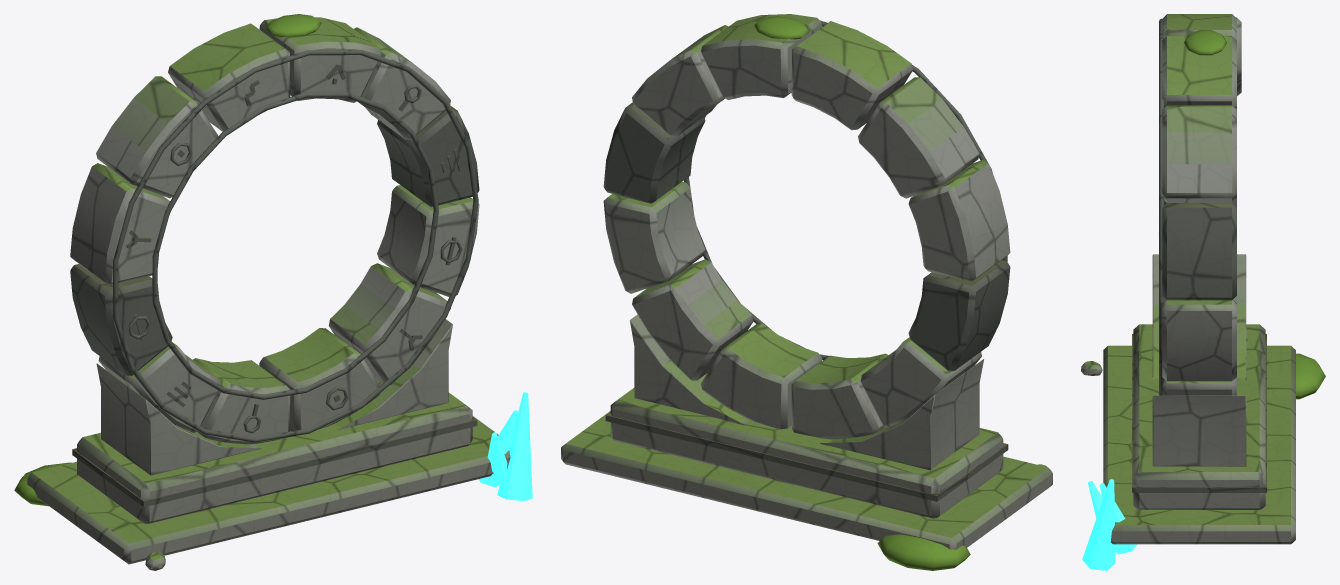
Rendered from stone_ring_gate.glb.
The picture shows the model from 3 angles, left to right: view 1: azimuth 30°, elevation 25°; view 2: azimuth 150°, elevation 25°; view 3: azimuth 270°, elevation 25°; orthographic projection. The views are drawn at different scales.
Parts seen in each view (by area): view 1: stone_ring_gate; view 2: stone_ring_gate; view 3: stone_ring_gate.
Part boxes in pixels (<box>): stone_ring_gate: <box>14,14,532,570</box>; stone_ring_gate: <box>561,14,1052,570</box>; stone_ring_gate: <box>1081,14,1325,570</box>.
Size of the model in its own units: 3.74 by 4.14 by 2.03.
4 materials, 3 textured.
